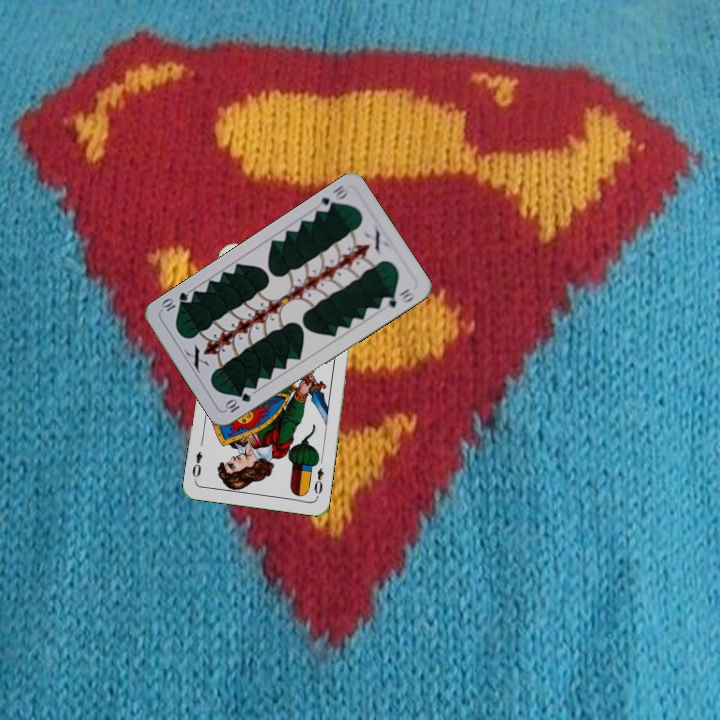EO: (310, 464, 326, 497)
G10: (316, 180, 351, 215), (221, 389, 253, 415)
